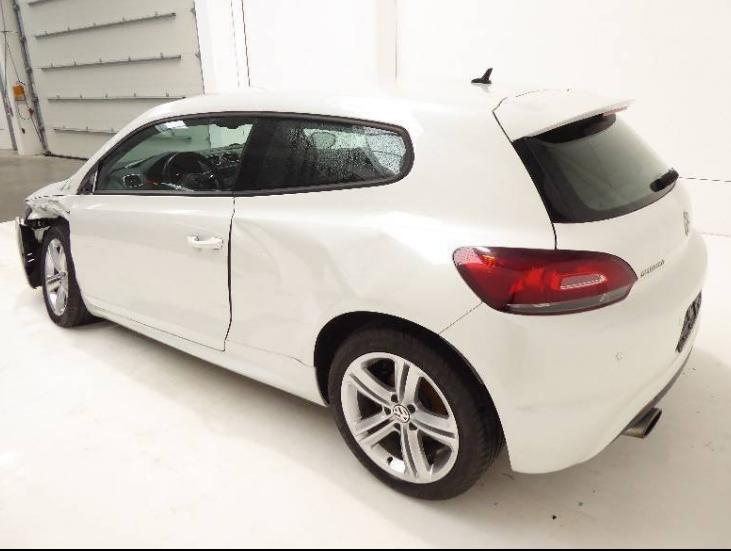Back-wheel: (329, 329, 505, 499)
Back-window: (237, 116, 408, 190)
Back-windshield: (511, 114, 679, 224)
Fender: (23, 195, 79, 221)
Front-bumper: (14, 216, 50, 291)
Front-door: (70, 116, 259, 352)
Front-wheel: (41, 226, 92, 327)
Front-window: (97, 117, 258, 190)
Hood: (23, 180, 68, 201)
License-plate: (678, 293, 702, 354)
Quarter-panel: (226, 179, 556, 367)
Rocker-panel: (84, 299, 329, 407)
Roof: (149, 77, 574, 123)
Tail-light: (453, 247, 639, 315)
Trunk: (439, 179, 708, 474), (493, 88, 636, 143)
